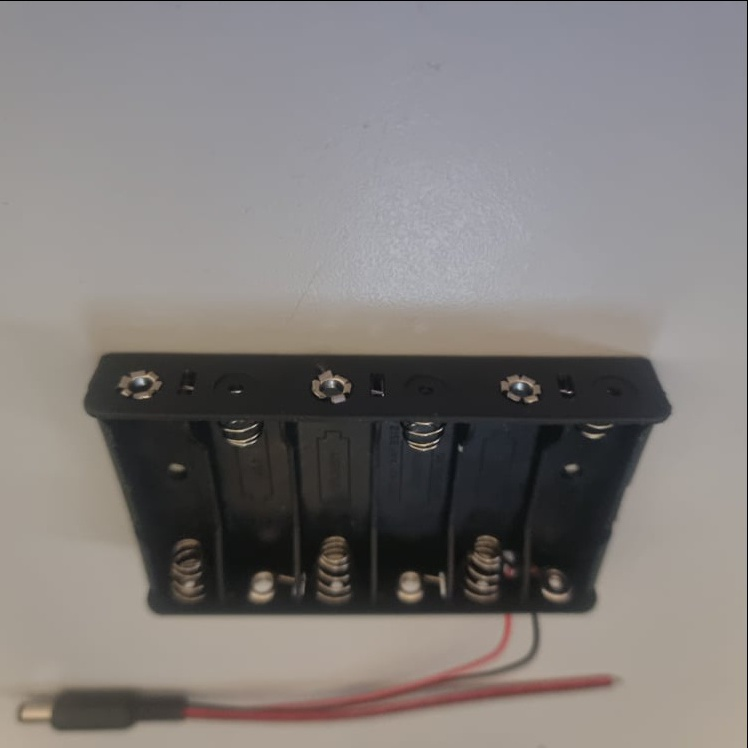BATTERY BOX: (85, 352, 675, 618)
